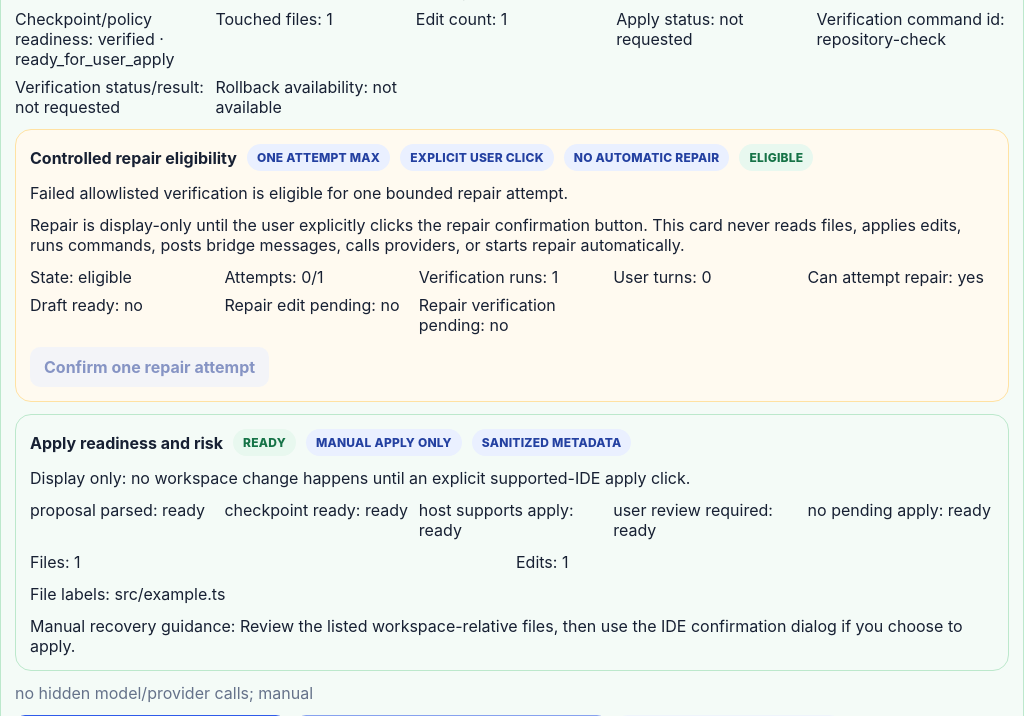
it: AgentRunPanel › disables controlled repair confirmation without draft readiness or while pending
(page scrolled)
Click the button "Confirm one repair attempt": (150, 367) x1=30 y1=347 x2=269 y2=387
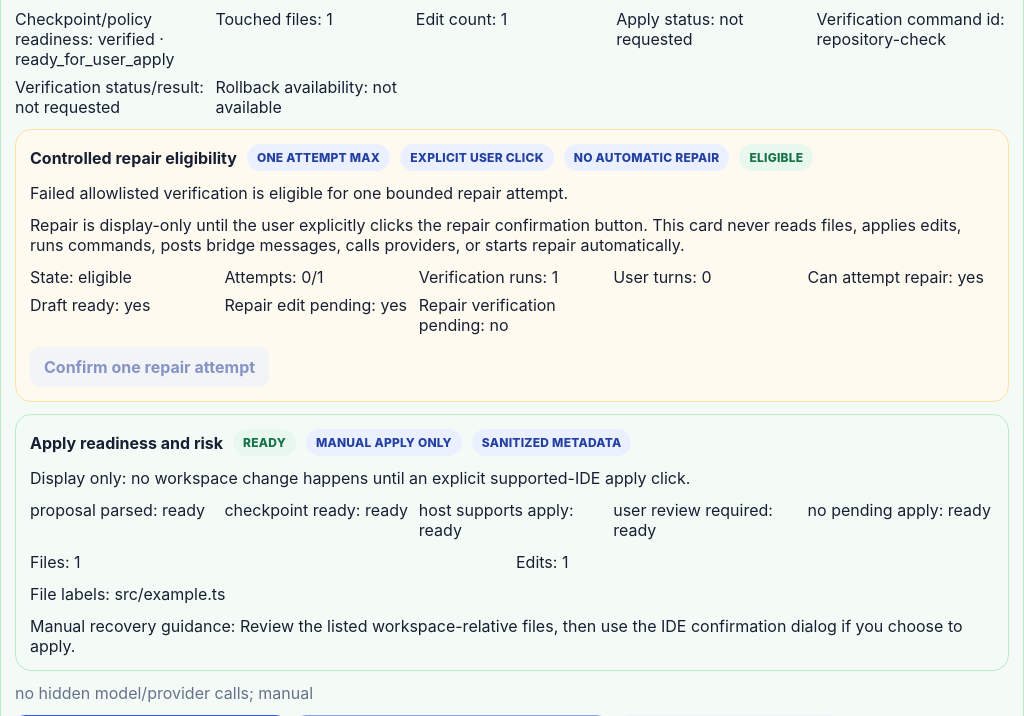
Expected: the text "Repair edit pending: yes" is shown, x1=224 y1=295 x2=407 y2=315
